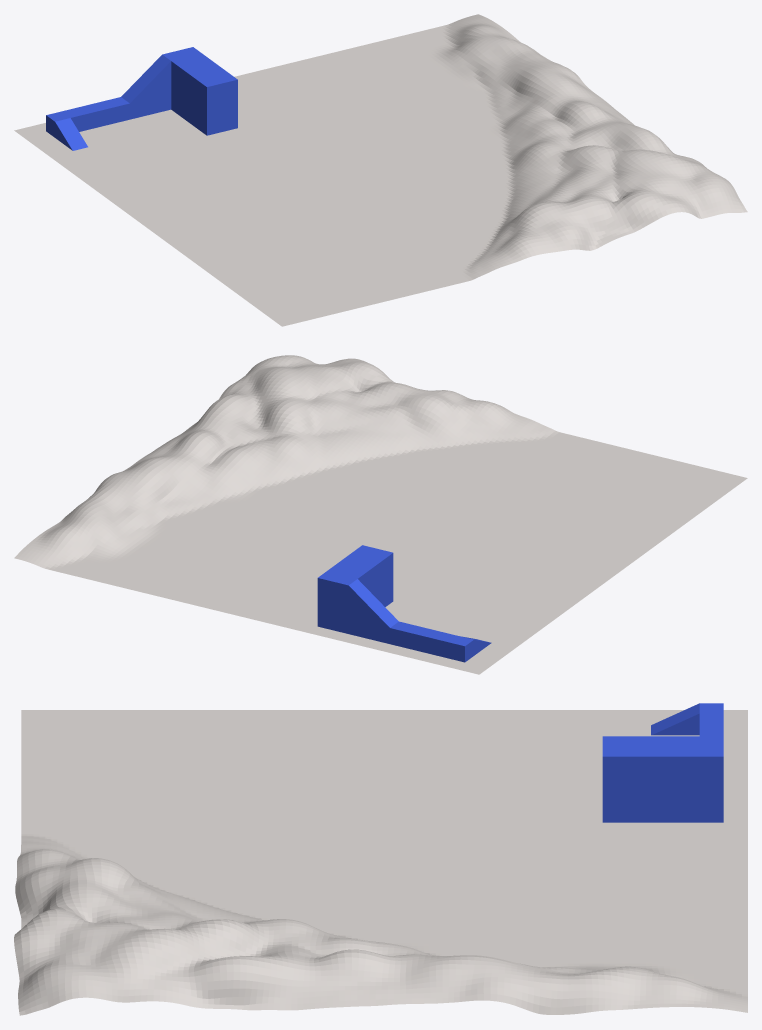
The picture shows the model from 3 angles, top to bottom: view 1: azimuth 30°, elevation 25°; view 2: azimuth 150°, elevation 25°; view 3: azimuth 270°, elevation 25°; orthographic projection. The views are drawn at different scales.
Parts seen in each view (by area): view 1: Plane, Cube.001; view 2: Plane, Cube.001; view 3: Plane, Cube.001.
Boxes of the visible parts, x1,y1,x2,y2 form: Plane: (14,14,747,326); Cube.001: (46,47,237,150); Plane: (14,355,747,674); Cube.001: (317,545,491,662); Plane: (14,710,747,1015); Cube.001: (602,703,723,822).
Bounding box in the file's own units: 302 × 30 × 303.
